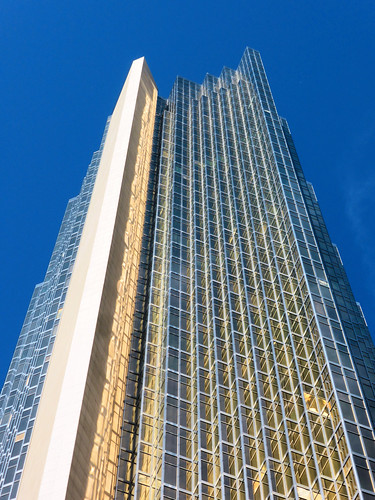high: (2, 42, 375, 500)
